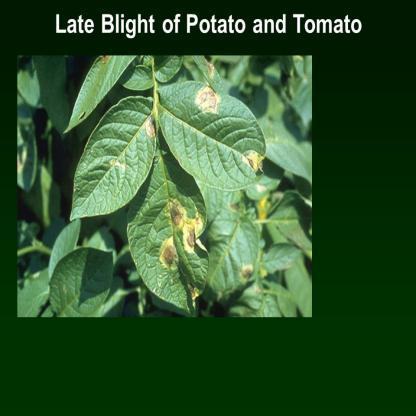Potato leaf: (152, 78, 270, 190), (124, 164, 211, 310), (69, 90, 157, 223)
